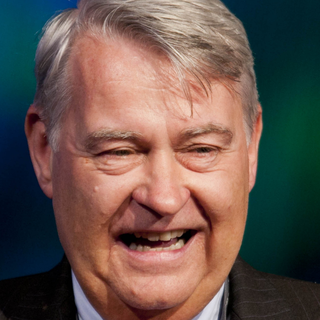eye: (91, 142, 144, 164), (177, 139, 225, 162)
